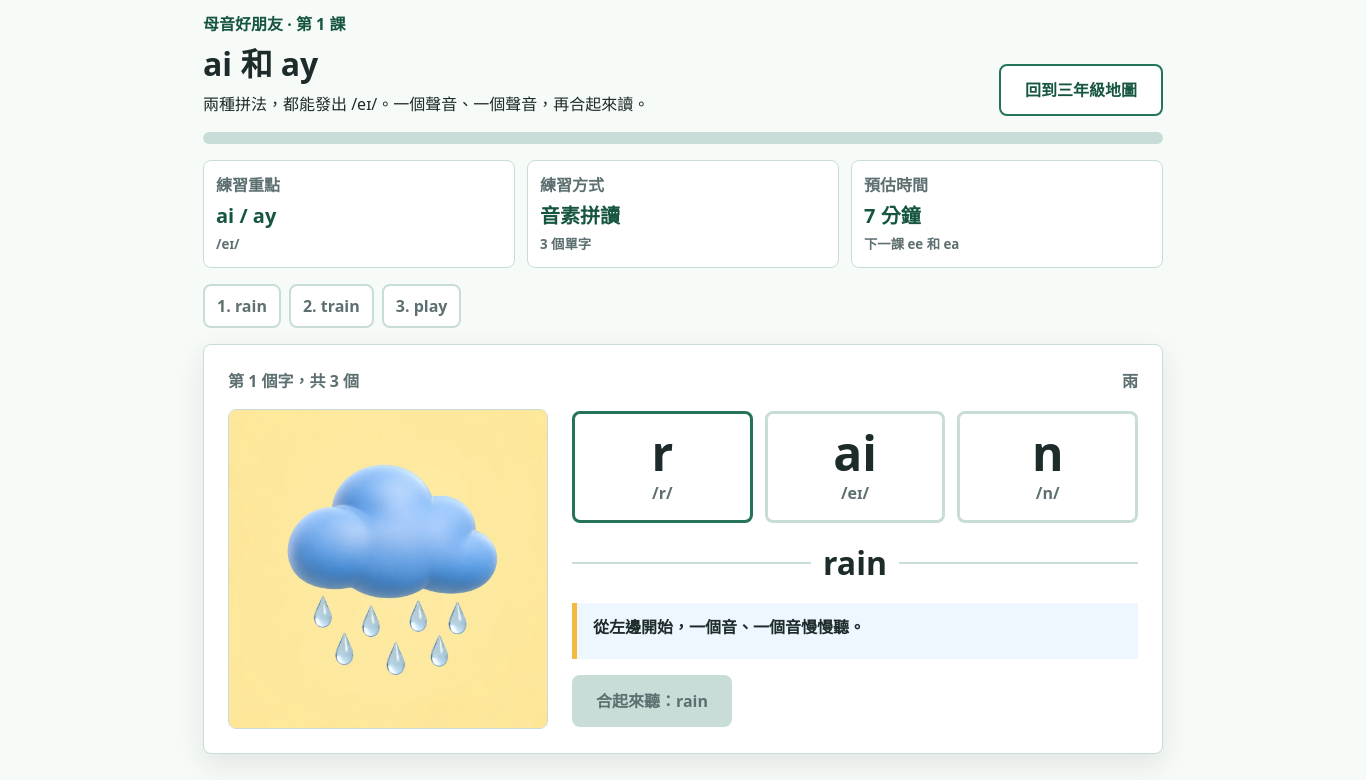
Test: GradeThree ai/ay lesson page › 把 ai 當成一個聲音單位，依序開放 rain 的逐音與合音
Check: the button with aria-label "播放 ai 的聲音" is disabled, box [765,411,945,523]
Check: the button named "播放 n 的聲音" is disabled, box [957,411,1138,523]
Click the button named "播放 r 的聲音".
click(662, 467)  # box [572,411,753,523]
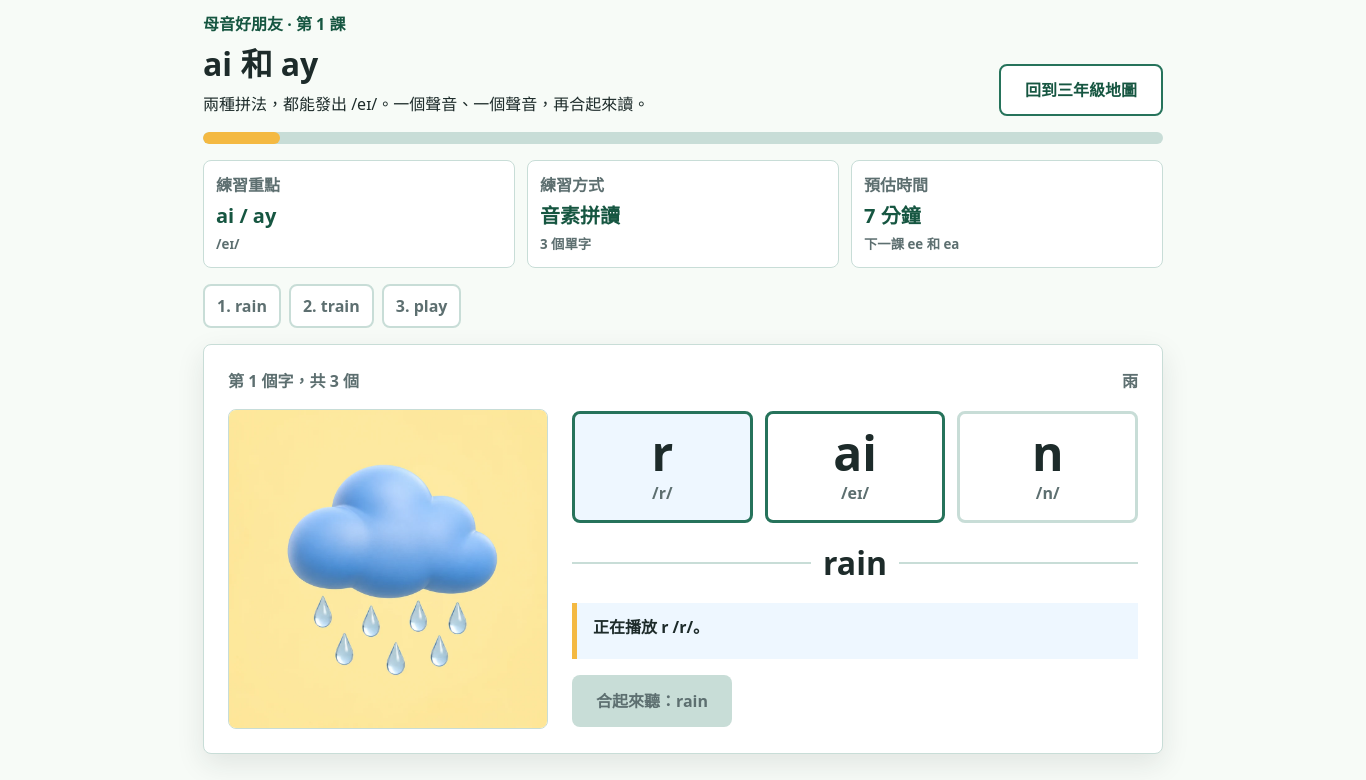
Click the button with aria-label "播放 ai 的聲音".
click(855, 467)  # box [765,411,945,523]
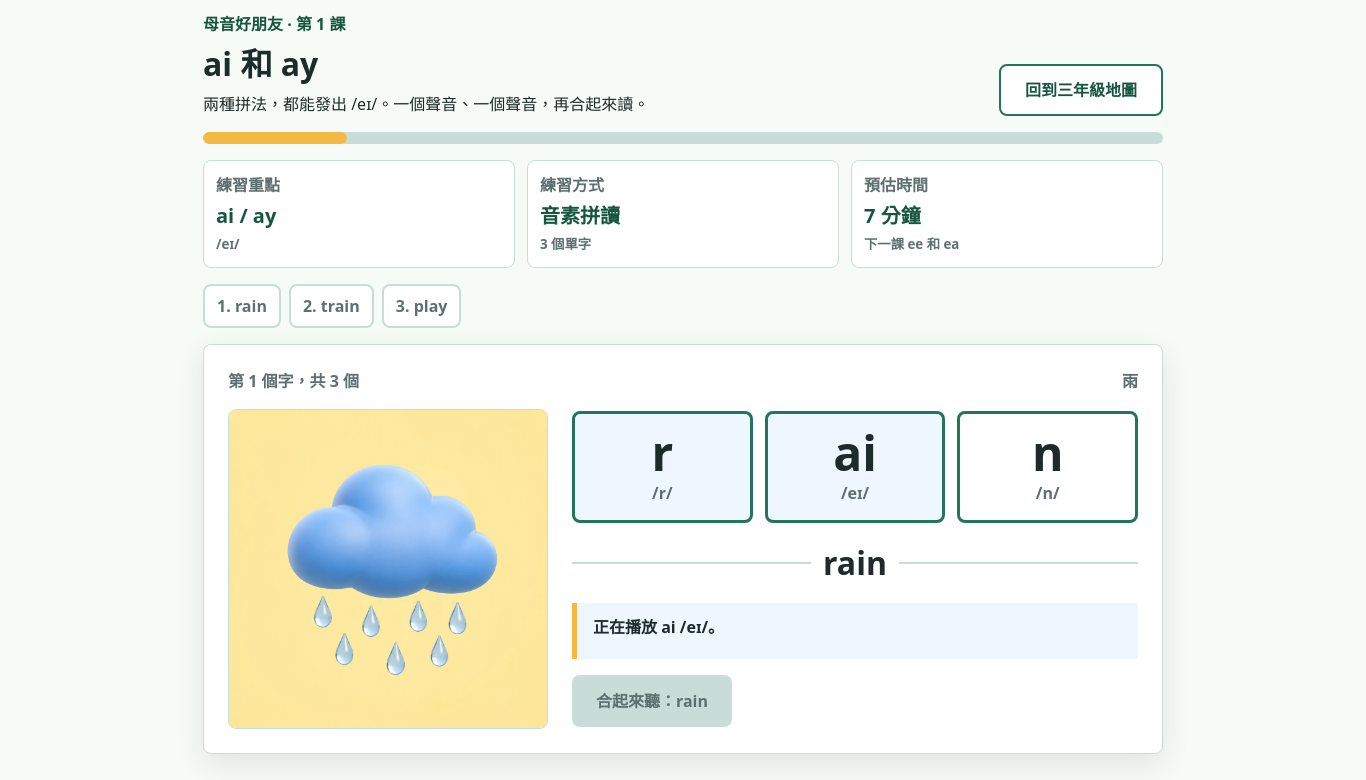
Click the button named "播放 n 的聲音".
click(1048, 467)  # box [957,411,1138,523]
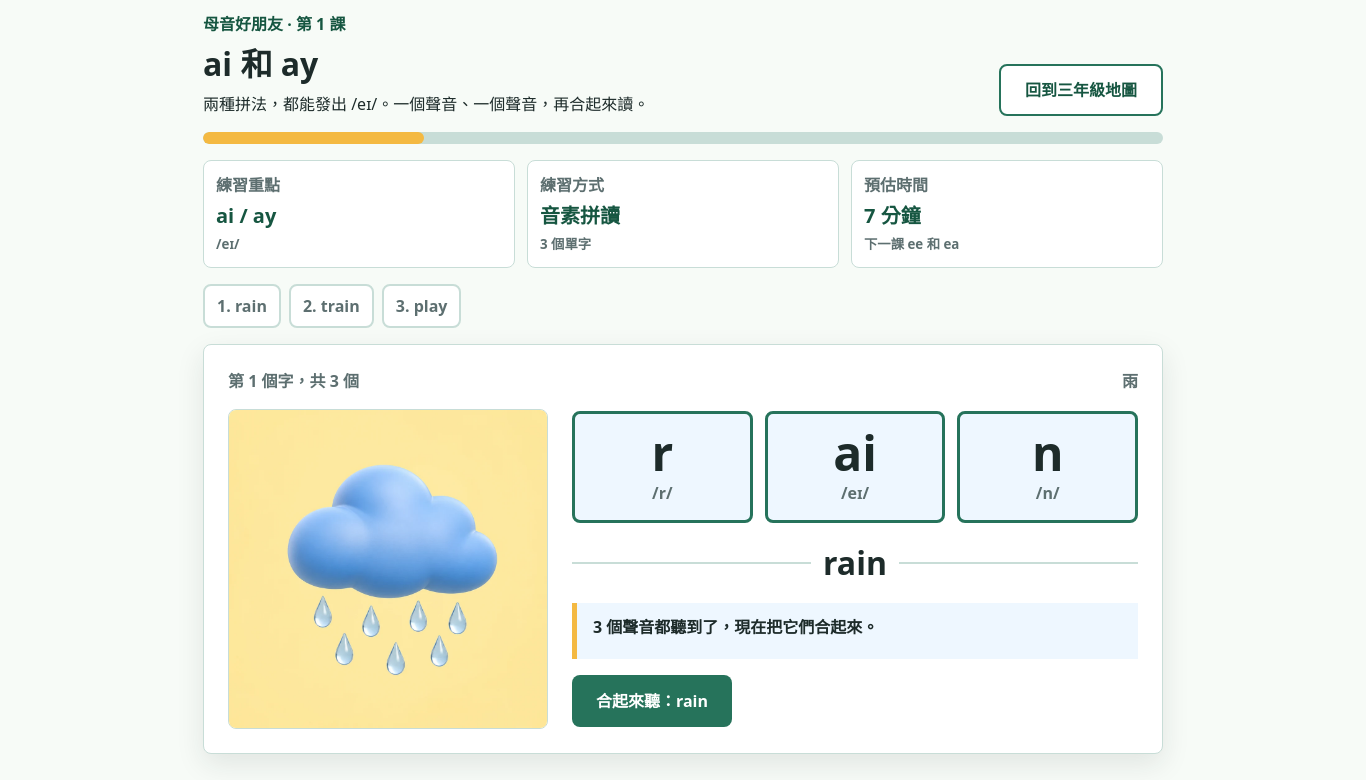
Check: the button "合起來聽：rain" is enabled
Click the button "合起來聽：rain".
click(652, 701)  # box [572,675,732,727]
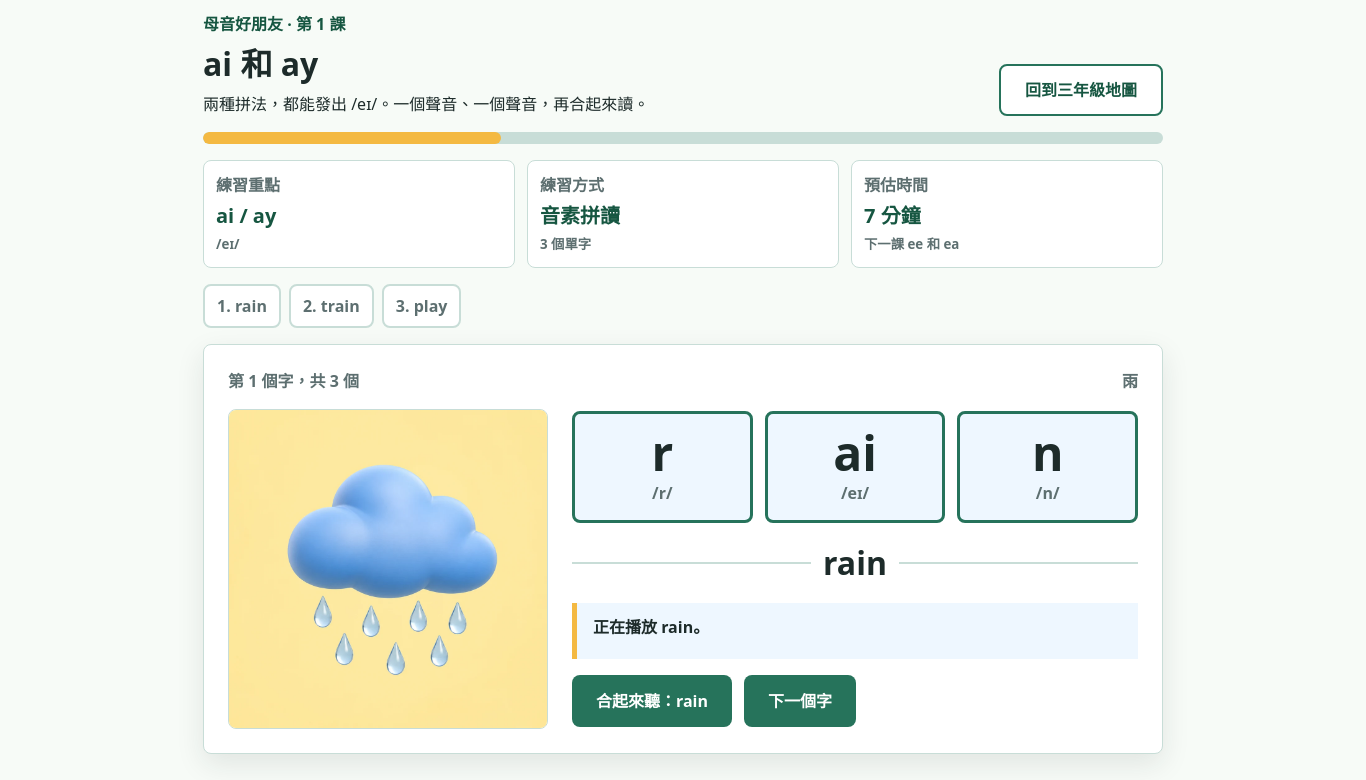
Check: the button "下一個字" is shown, box [744,675,856,727]
